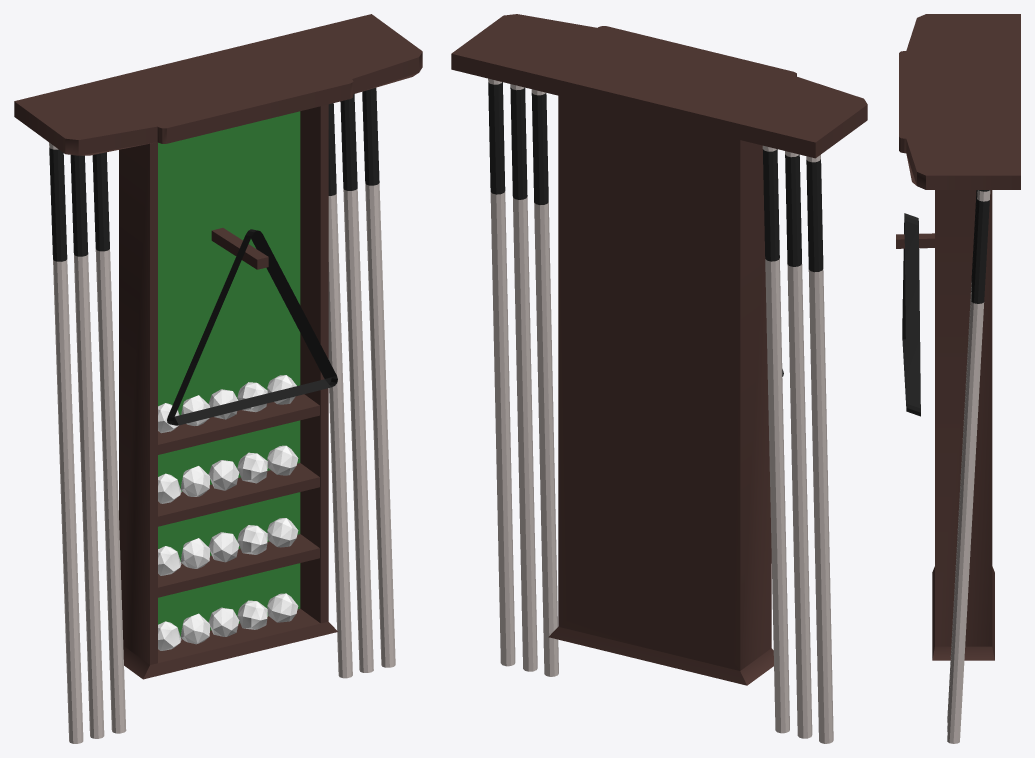
Rendered from entertainment_018.fbx.
3 renders of one model, left to right at view 1: azimuth 30°, elevation 25°; view 2: azimuth 150°, elevation 25°; view 3: azimuth 270°, elevation 25°, orthographic. The views are drawn at different scales.
Visible parts, largest first — view 1: entertainment_018; view 2: entertainment_018; view 3: entertainment_018.
Boxes of the visible parts, x1,y1,x2,y2 form: entertainment_018: (14,14,422,743); entertainment_018: (451,14,867,743); entertainment_018: (896,14,1020,743).
Bounding box in the file's own units: 98.75 × 32.23 × 164.
